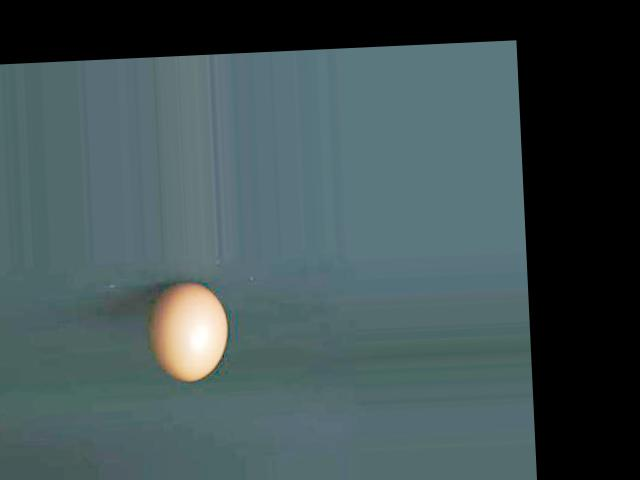egg: (147, 280, 228, 382)
